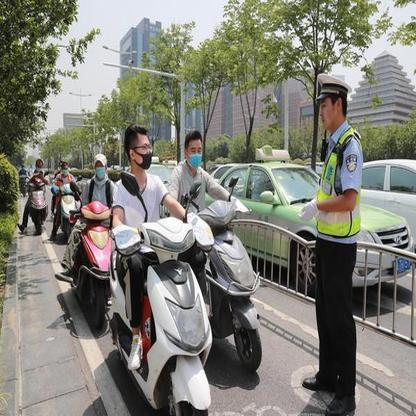target: (109, 122, 216, 412), (170, 129, 274, 372), (65, 152, 119, 331)
